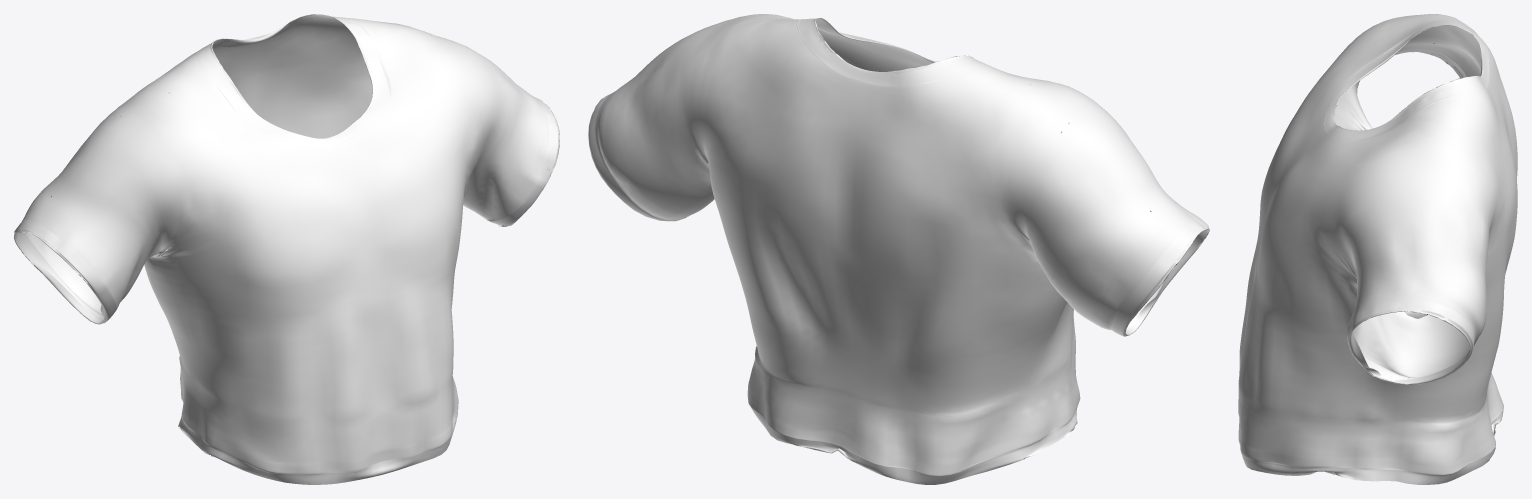
Rendered from Tshirt_S.glb.
The picture shows the model from 3 angles, left to right: view 1: azimuth 30°, elevation 25°; view 2: azimuth 150°, elevation 25°; view 3: azimuth 270°, elevation 25°; orthographic projection. The views are drawn at different scales.
Visible parts, largest first — view 1: TShirt_for_Genesis; view 2: TShirt_for_Genesis; view 3: TShirt_for_Genesis.
Part boxes in pixels (x1=…): TShirt_for_Genesis: x1=14, y1=14, x2=559, y2=484; TShirt_for_Genesis: x1=588, y1=14, x2=1209, y2=484; TShirt_for_Genesis: x1=1238, y1=14, x2=1517, y2=484.
Bounding box in the file's own units: 13.6 × 9.29 × 6.12.
Materials: 1 (1 with a texture image).
